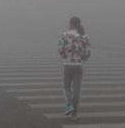person: (57, 16, 91, 121)
